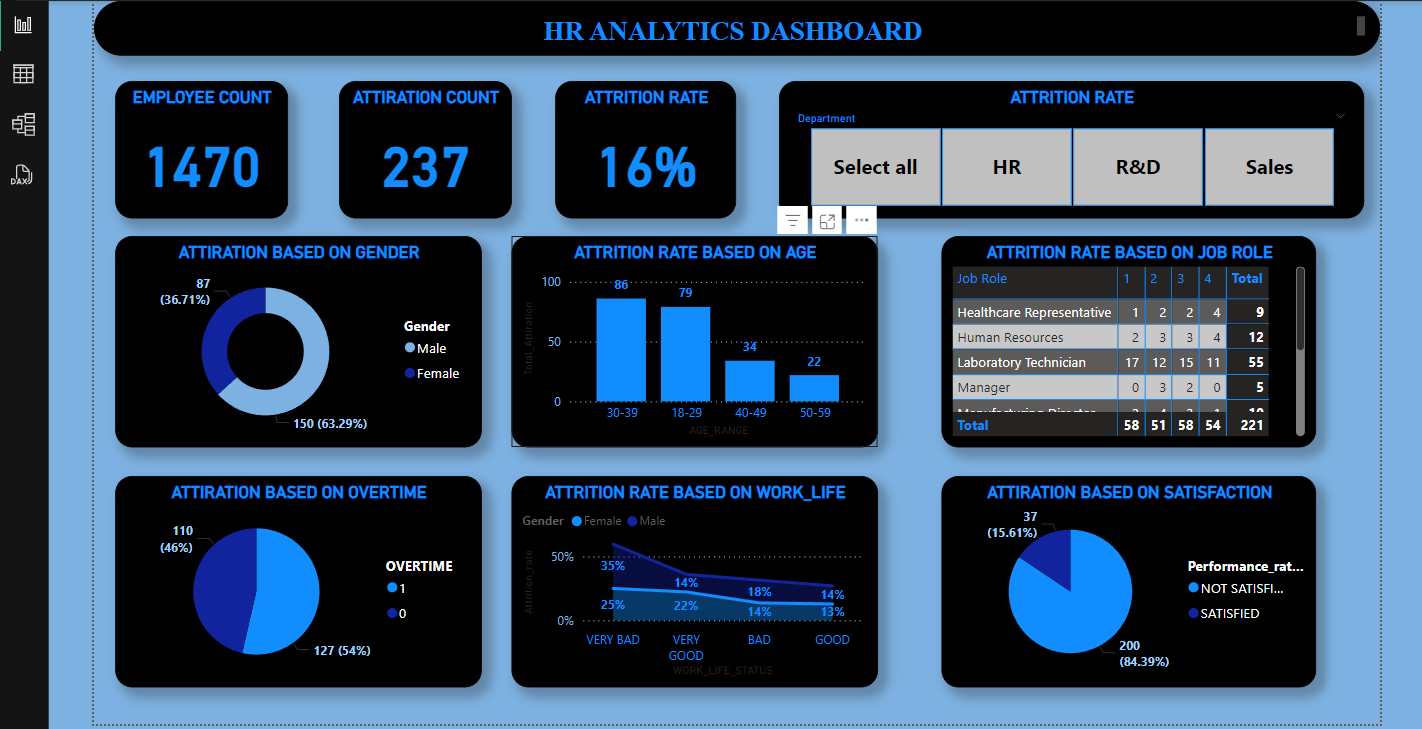

The page's visual inventory and layout, read from the dashboard file:
{"tool":"powerbi","page":{"name":"Page 1","canvas":[1280,720],"ordinal":0},"visuals":[{"type":"textbox","box":[0,0,1280,54.7],"z":0},{"type":"card","title":"EMPLOYEE COUNT","fields":{"Values":["attiration.TOTAL EMPLOYEES"]},"box":[21.1,79.6,171.7,136.8],"z":1000},{"type":"card","title":"ATTIRATION COUNT","fields":{"Values":["attiration.Total_Attiration"]},"box":[243.8,79.6,171.7,136.8],"z":2000},{"type":"card","title":"ATTRITION RATE","fields":{"Values":["attiration.Attrition_rate"]},"box":[459,79.6,180.4,136.8],"z":3000},{"type":"slicer","title":"ATTRITION RATE","fields":{"Values":["attiration.Department"]},"box":[681.7,79.6,582.2,136.8],"z":4000},{"type":"donutChart","title":"ATTIRATION BASED ON GENDER","fields":{"Category":["attiration.Gender"],"Y":["Sum(attiration.Attrition)"]},"box":[21.1,233.9,364.5,210.2],"z":5000},{"type":"pieChart","title":"ATTIRATION BASED ON OVERTIME","fields":{"Y":["Sum(attiration.Attrition)"],"Category":["attiration.OVERTIME"]},"box":[21.1,472.7,364.5,210.2],"z":6000},{"type":"columnChart","title":"ATTRITION RATE BASED ON AGE","fields":{"Category":["attiration.AGE_RANGE"],"Y":["attiration.Total_Attiration"]},"box":[415.5,233.9,364.5,210.2],"z":7000},{"type":"stackedAreaChart","title":"ATTRITION RATE BASED ON WORK_LIFE","fields":{"Category":["attiration.WORK_LIFE_STATUS"],"Y":["attiration.Attrition_rate"],"Series":["attiration.Gender"]},"box":[415.5,472.7,364.5,210.2],"z":7001},{"type":"pivotTable","title":"ATTRITION RATE BASED ON AGE","fields":{"Rows":["attiration.Job Role"],"Columns":["attiration.Job Satisfaction"],"Values":["Sum(attiration.Attrition)"]},"box":[843.4,233.9,373.2,210.2],"z":7002},{"type":"pieChart","title":"ATTIRATION BASED ON SATISFACTION","fields":{"Category":["attiration.Performance_rating"],"Y":["Sum(attiration.Attrition)"]},"box":[843.4,472.7,373.2,210.2],"z":7003}]}

Visuals, with their boxes in screenshot pixels (x1, y1, x2, y2):
textbox: [93, 0, 1372, 55]
"EMPLOYEE COUNT" card: [114, 80, 285, 216]
"ATTIRATION COUNT" card: [336, 80, 508, 216]
"ATTRITION RATE" card: [551, 80, 731, 216]
"ATTRITION RATE" slicer: [774, 80, 1355, 216]
"ATTIRATION BASED ON GENDER" donutChart: [114, 234, 478, 444]
"ATTIRATION BASED ON OVERTIME" pieChart: [114, 472, 478, 682]
"ATTRITION RATE BASED ON AGE" columnChart: [508, 234, 872, 444]
"ATTRITION RATE BASED ON WORK_LIFE" stackedAreaChart: [508, 472, 872, 682]
"ATTRITION RATE BASED ON AGE" pivotTable: [935, 234, 1308, 444]
"ATTIRATION BASED ON SATISFACTION" pieChart: [935, 472, 1308, 682]
